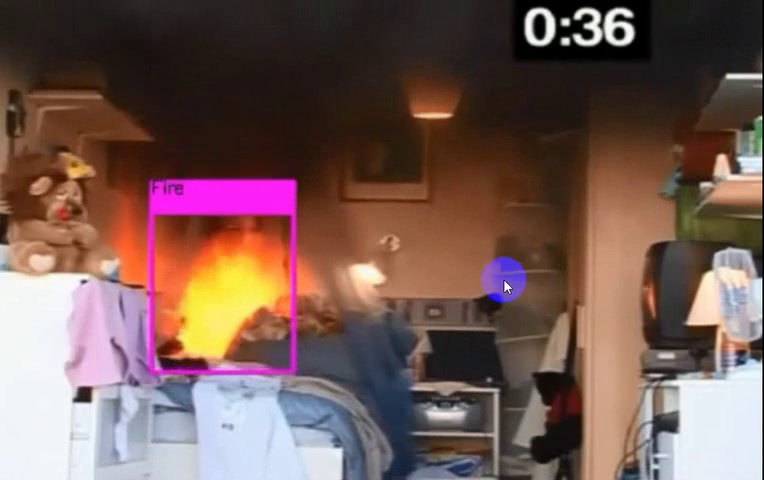fire: (162, 214, 293, 363)
